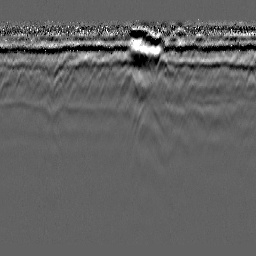cavity: (118, 67, 139, 100)
